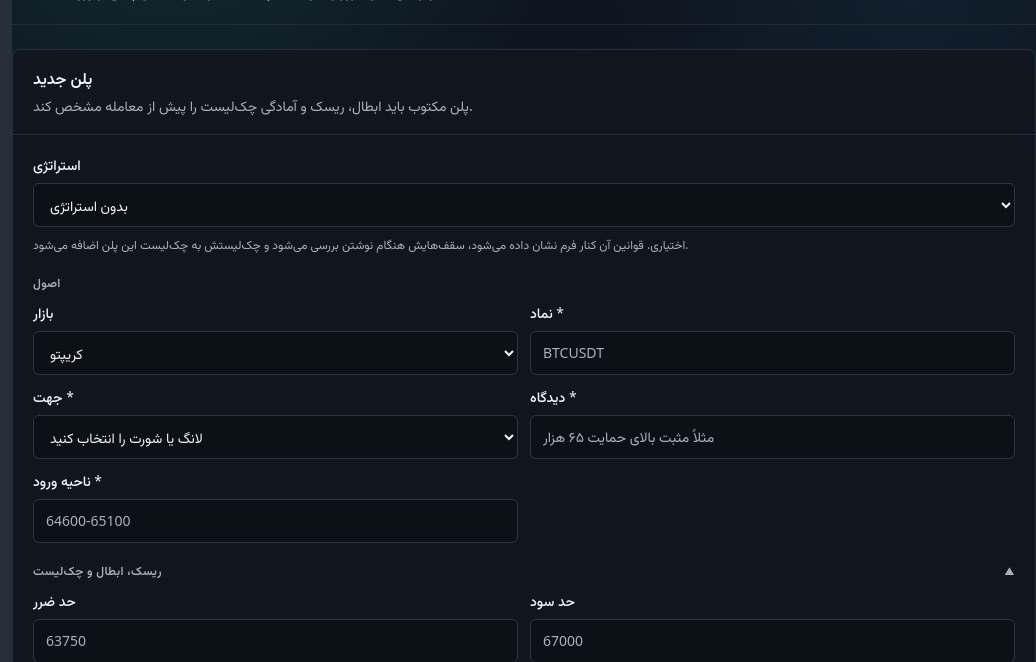
API errors are shown in the page language › names the rejected fields in Persian, joined with the Persian comma
Type "ETHUSDT" into the field labelled "نماد *".
click(772, 353); type("ETHUSDT")  # box [530,331,1015,375]
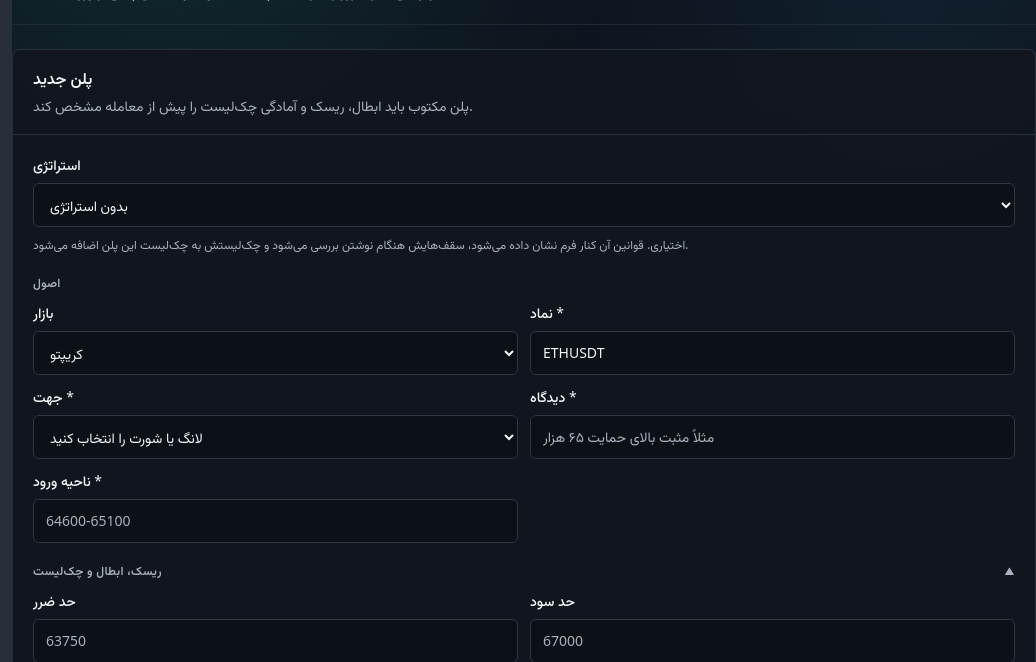
Select "لانگ" in the dropdown labelled "جهت *" at (276, 437), box [33,415,518,459]
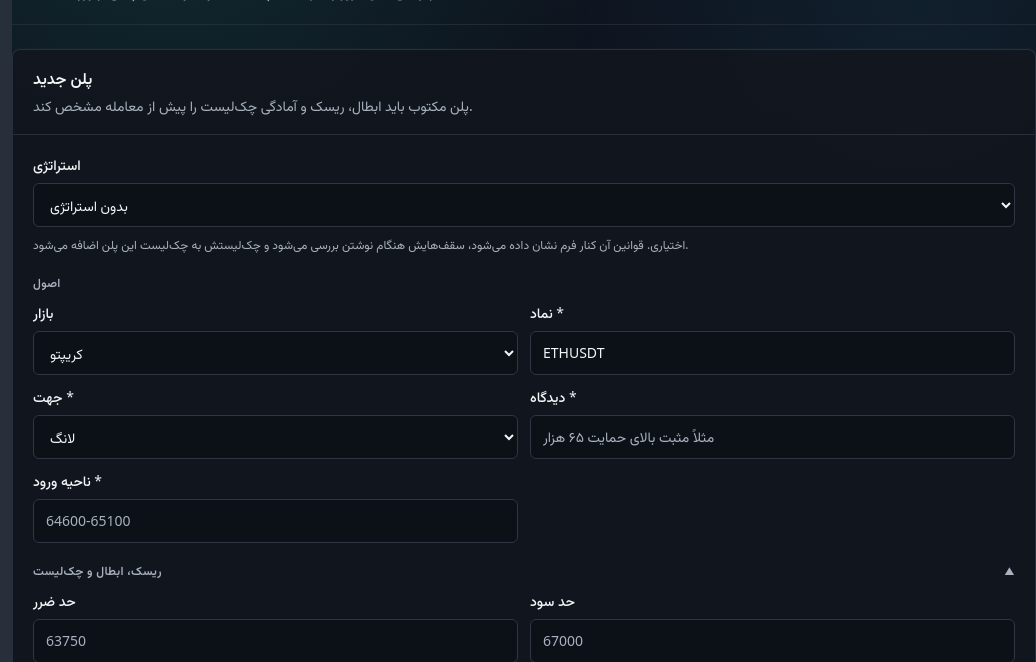
Type "x" into the field labelled "دیدگاه *".
click(772, 437); type("x")  # box [530,415,1015,459]
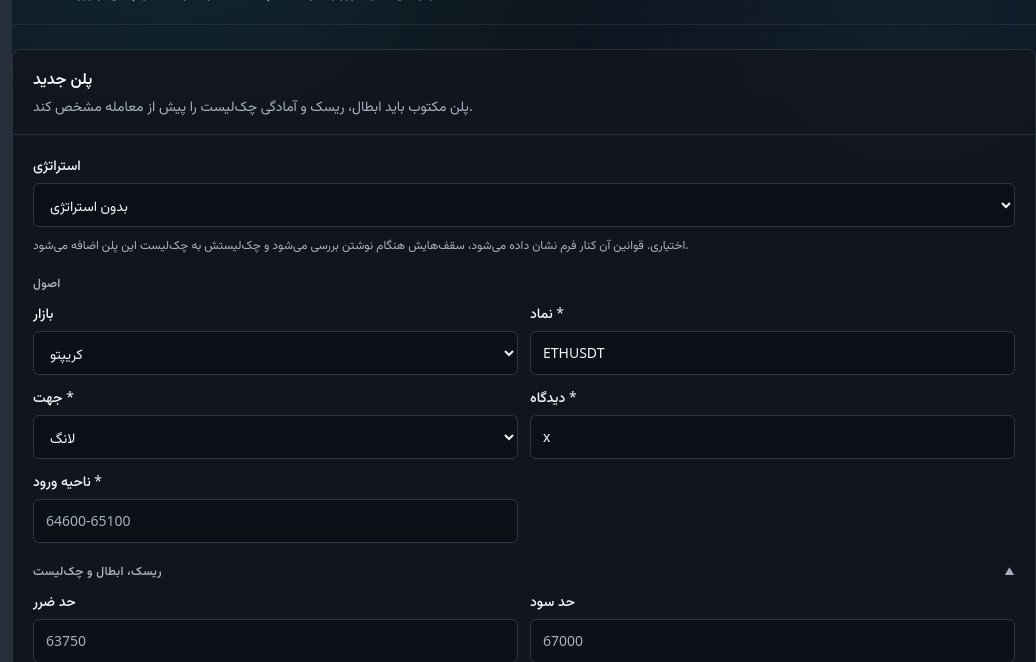
Type "3000" into the field labelled "ناحیه ورود *".
click(276, 521); type("3000")  # box [33,499,518,543]
(page scrolled)
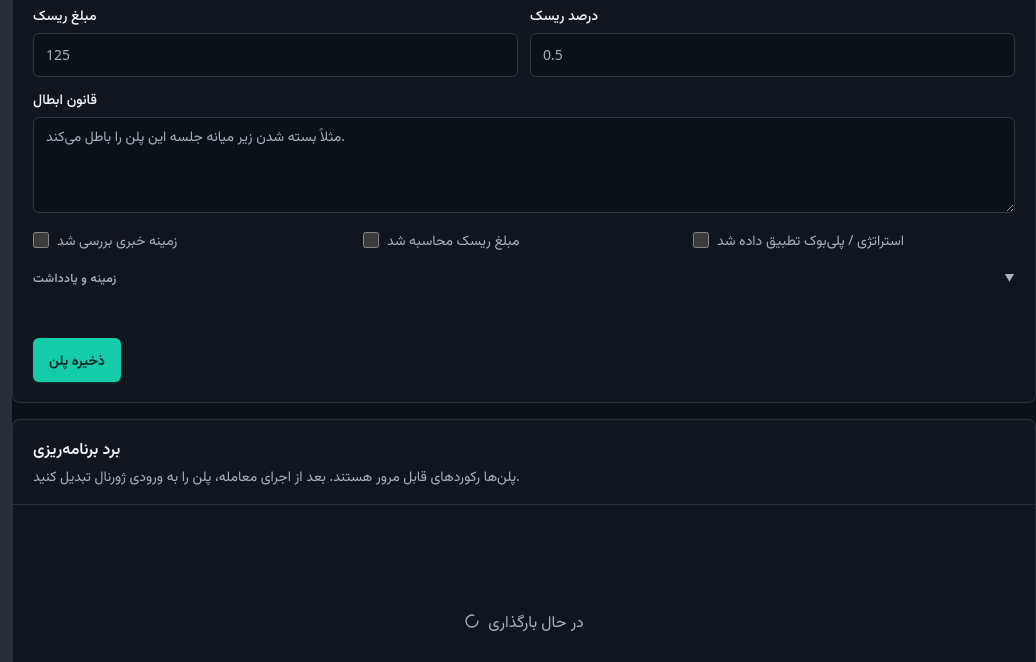
Click the button "ذخیره پلن".
click(77, 360)  # box [33,338,121,382]
(page scrolled)
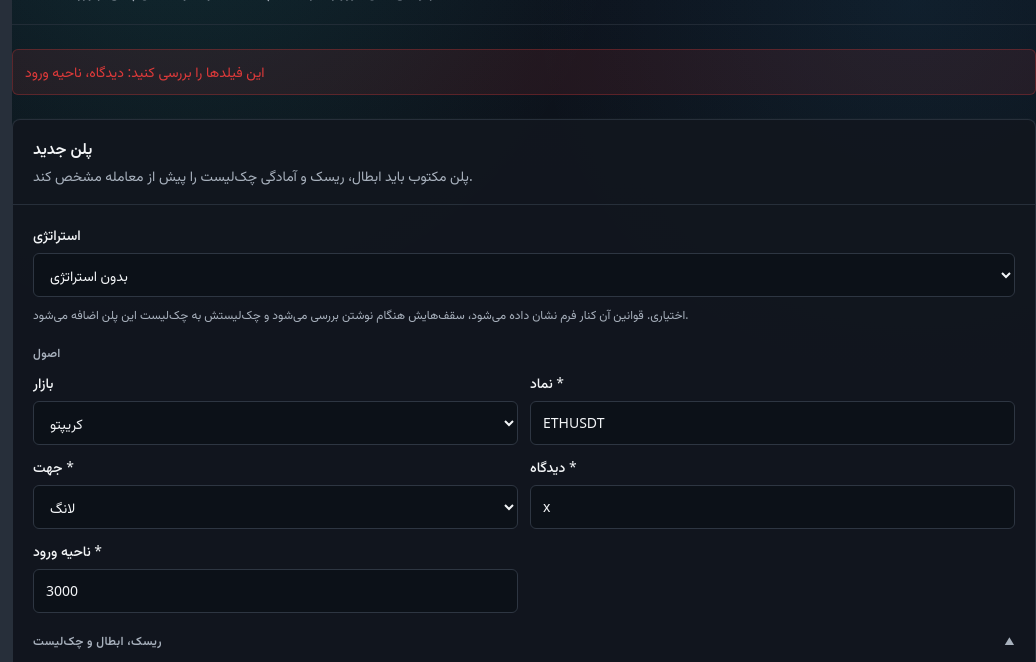
Expected: the message reads "این فیلدها را بررسی کنید: دیدگاه، ناحیه ورود", [25,62,264,81]
